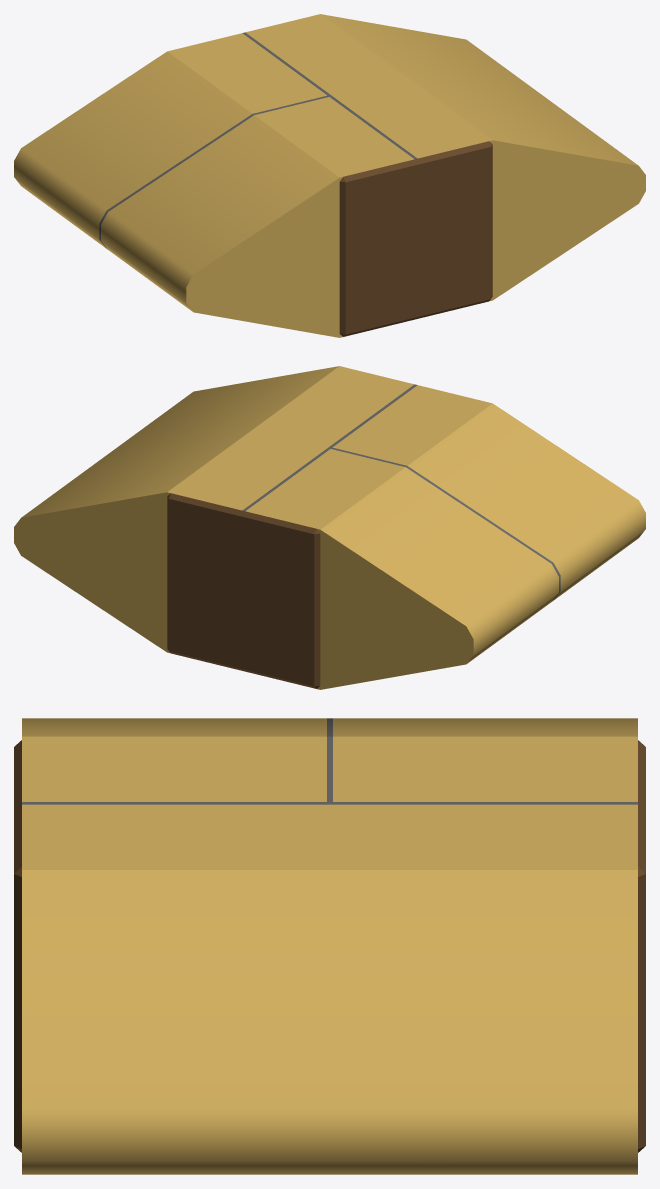
The model's file is plast.fbx.
3 renders of one model, top to bottom at view 1: azimuth 30°, elevation 25°; view 2: azimuth 150°, elevation 25°; view 3: azimuth 270°, elevation 25°, orthographic. The views are drawn at different scales.
Parts seen in each view (by area): view 1: Cube; view 2: Cube; view 3: Cube.
Part boxes in pixels (x1,y1,x2,y2): Cube: (14, 14, 645, 337); Cube: (14, 366, 645, 689); Cube: (14, 718, 645, 1174).
Size of the model in its own units: 6 by 2 by 4.
